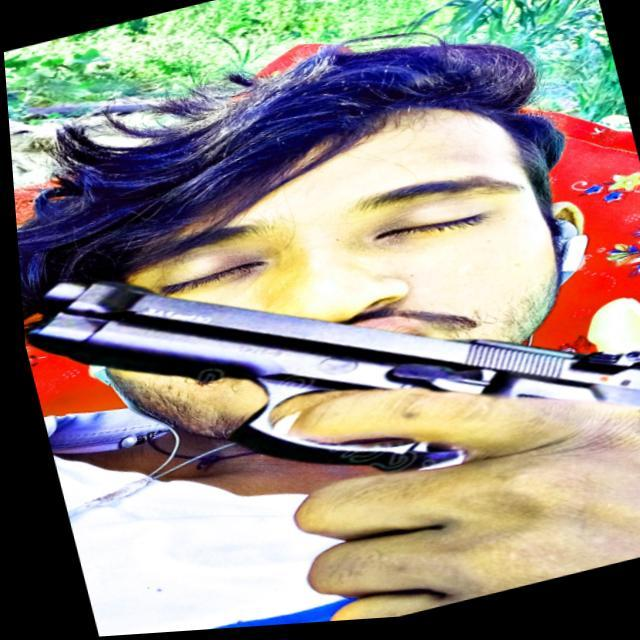weapon: (10, 144, 640, 640)
